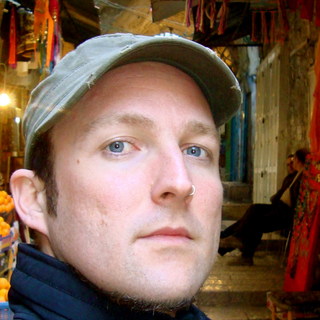eye: (98, 134, 145, 160), (176, 140, 216, 163)
